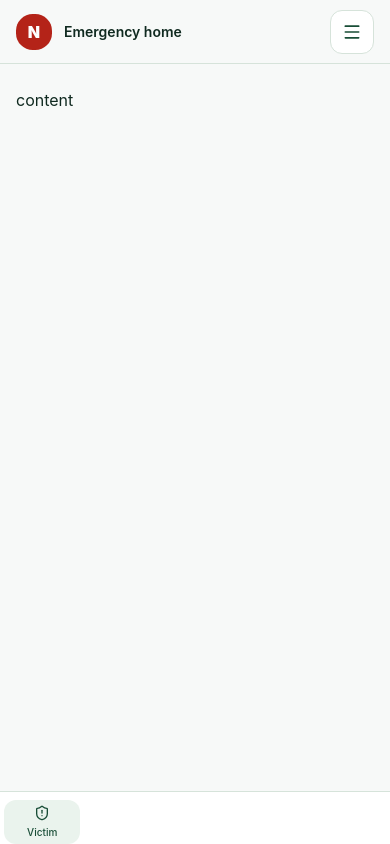
Test case: AppShell — mobile workspace menu › opens the role menu when the header menu button is clicked and switches role
This screenshot has width=390, height=844.
Later steps or results of the test are not shown.
Click the button named "Open workspace menu".
click(352, 32)  # box left=330, top=10, right=374, bottom=54
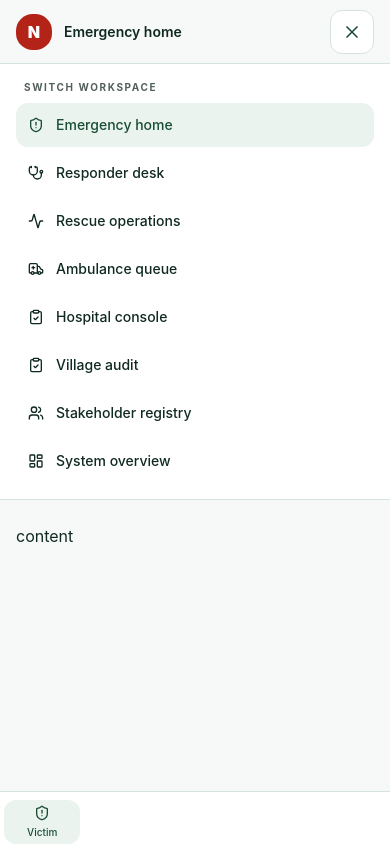
Check: the text "SWITCH WORKSPACE" is shown, box left=24, top=81, right=157, bottom=93
